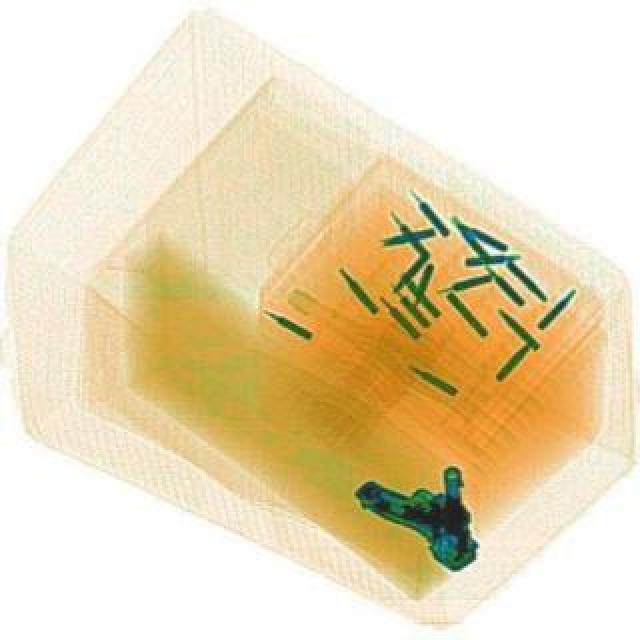gun: (350, 464, 474, 566)
